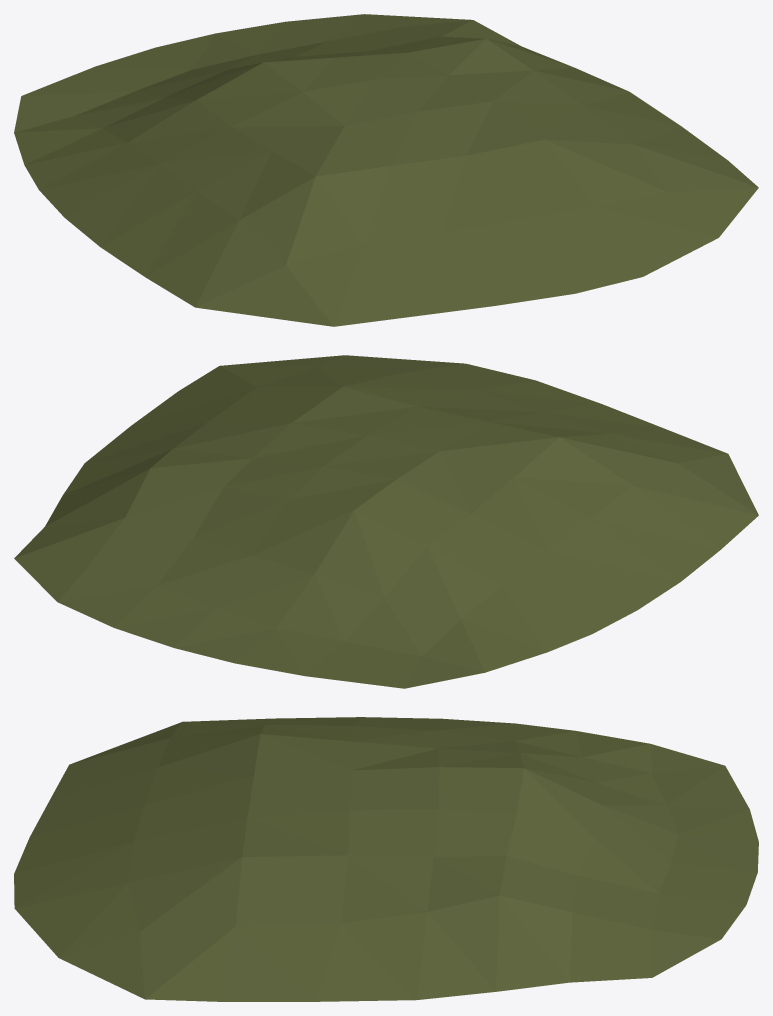
The model's file is ground_mound.glb.
The picture shows the model from 3 angles, top to bottom: view 1: azimuth 30°, elevation 25°; view 2: azimuth 150°, elevation 25°; view 3: azimuth 270°, elevation 25°; orthographic projection. The views are drawn at different scales.
Parts seen in each view (by area): view 1: SM_Env_GroundMounds_01; view 2: SM_Env_GroundMounds_01; view 3: SM_Env_GroundMounds_01.
Part boxes in pixels (x1,y1,x2,y2): SM_Env_GroundMounds_01: (14,14,758,326); SM_Env_GroundMounds_01: (14,355,758,688); SM_Env_GroundMounds_01: (14,717,758,1001).
Bounding box in the file's own units: 482 × 56.95 × 532.
1 material, 1 textured.
